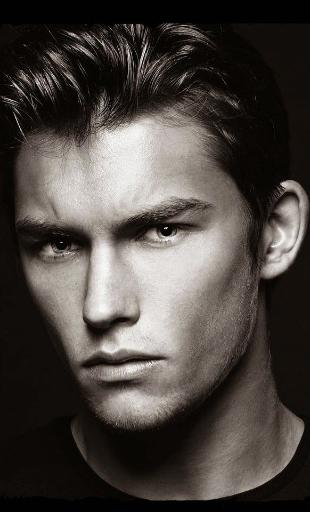left_eye: (132, 217, 203, 250)
left_lip_corner: (151, 347, 170, 372)
right_eye: (36, 232, 87, 266)
right_lip_corner: (79, 355, 92, 378)
